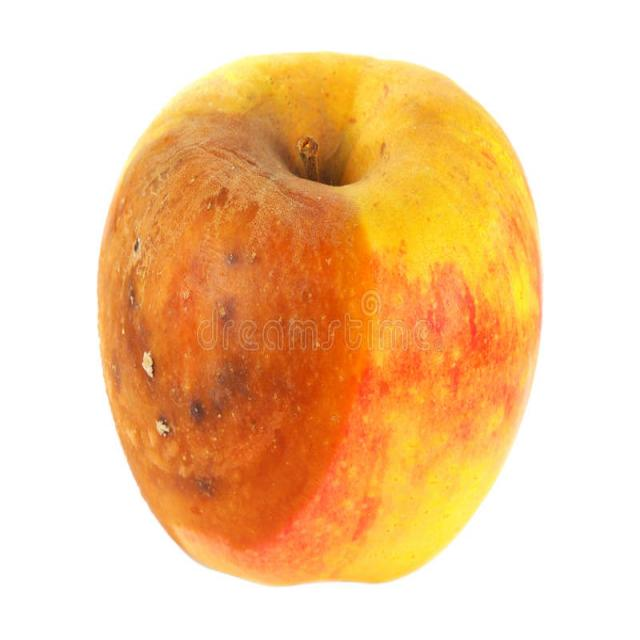Rotten: (101, 64, 542, 558)
